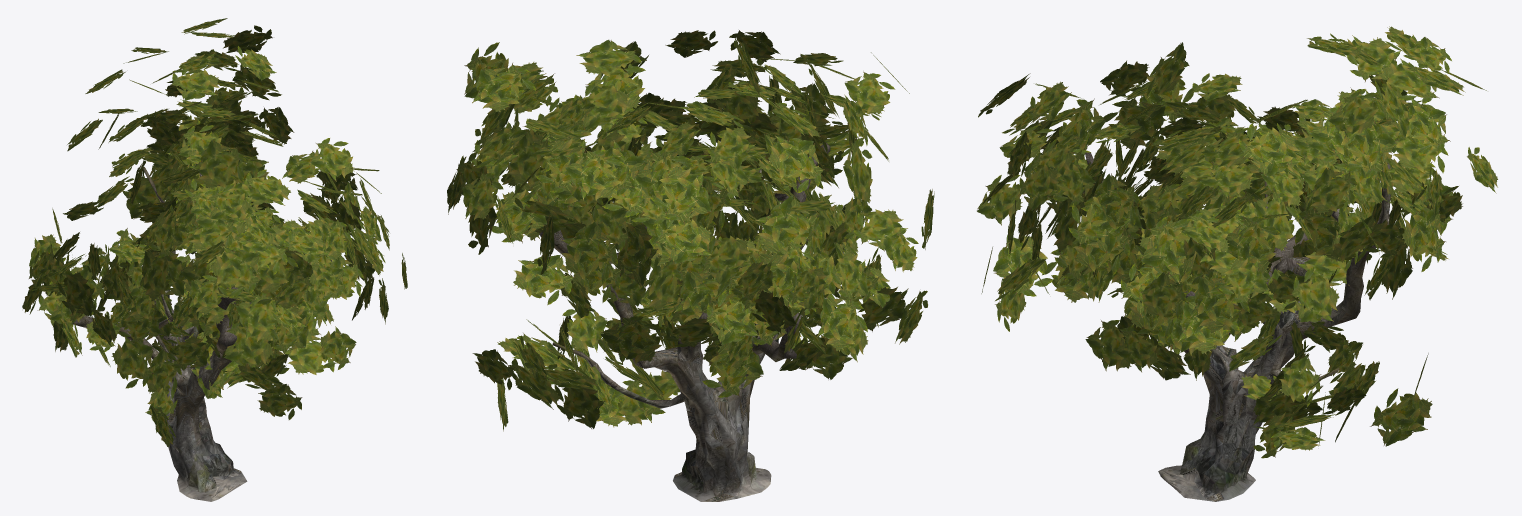
File: tree_01.obj
3 views of the same model, side by side, from view 1: azimuth 30°, elevation 25°; view 2: azimuth 150°, elevation 25°; view 3: azimuth 270°, elevation 25° (orthographic). The views are drawn at different scales.
Visible parts, largest first — view 1: leaves, trunk; view 2: leaves, trunk; view 3: leaves, trunk.
Boxes of the visible parts, <box> form: leaves: <box>22,18,407,447</box>; trunk: <box>49,164,331,501</box>; leaves: <box>447,30,934,431</box>; trunk: <box>539,142,830,501</box>; leaves: <box>977,26,1497,458</box>; trunk: <box>1083,152,1390,501</box>.
Bounding box in the file's own units: 4.67 × 4.92 × 4.96.
Materials: 2 (2 with a texture image).
